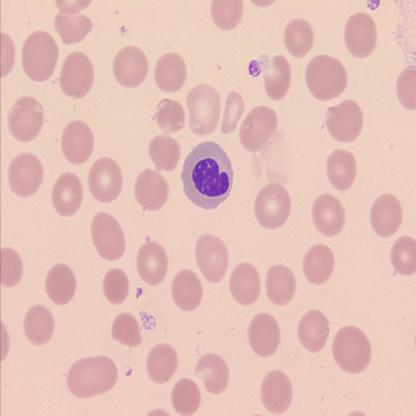NRC: (178, 139, 236, 211)
